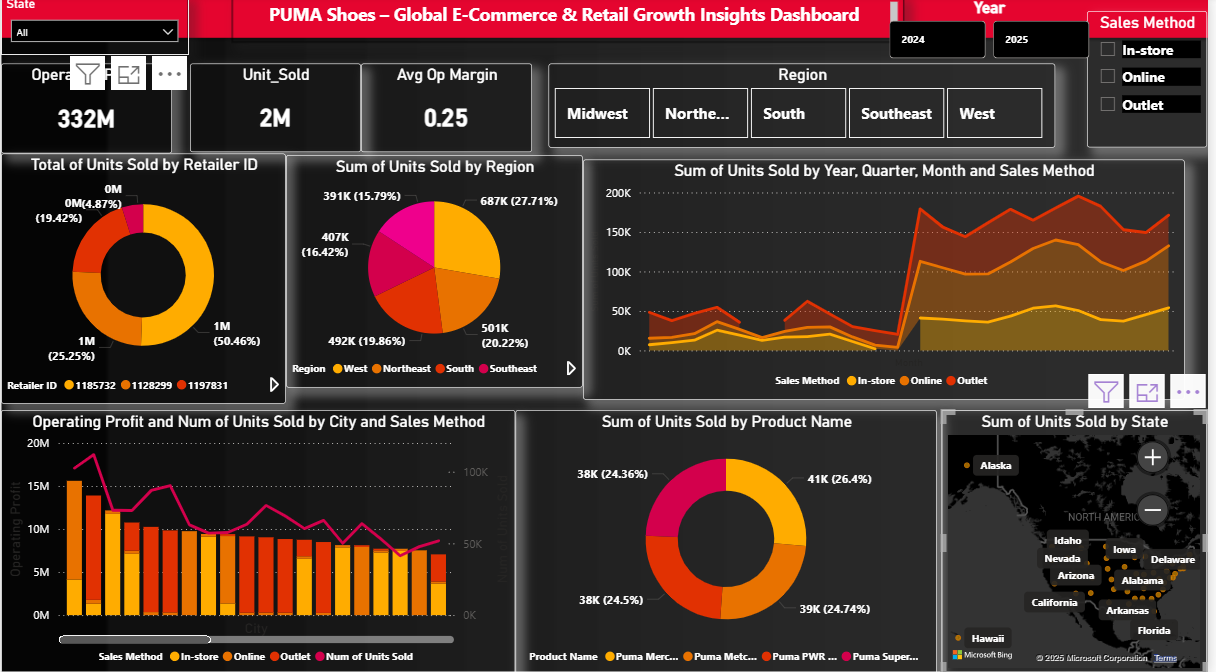

The dashboard page shown, as its layout file describes it:
{"tool":"powerbi","page":{"name":"Page 1","canvas":[1280,720],"ordinal":0},"visuals":[{"type":"textbox","box":[245,0,712.6,49.3],"z":0},{"type":"card","title":"Operating Profit","fields":{"Values":["Sum(data sales puma.Operating Profit)"]},"box":[0,71.6,181.3,95.4],"z":1000},{"type":"card","title":"Avg Op Margin","fields":{"Values":["Avg(data sales puma.Operating Margin)"]},"box":[381.7,71.6,181.3,93.8],"z":2000},{"type":"card","title":"Unit_Sold","fields":{"Values":["Sum(data sales puma.Units Sold)"]},"box":[200.4,71.6,181.3,93.8],"z":3000},{"type":"stackedAreaChart","fields":{"Category":["data sales puma.Invoice Date.Variation.Date Hierarchy.Year","data sales puma.Invoice Date.Variation.Date Hierarchy.Quarter","data sales puma.Invoice Date.Variation.Date Hierarchy.Month","data sales puma.Invoice Date.Variation.Date Hierarchy.Day"],"Y":["Sum(data sales puma.Units Sold)"],"Series":["data sales puma.Sales Method"]},"box":[617.2,173.4,637.8,254.5],"z":4000},{"type":"lineStackedColumnComboChart","fields":{"Category":["data sales puma.City"],"Y":["Sum(data sales puma.Operating Profit)"],"Y2":["Sum(data sales puma.Units Sold)"],"Series":["data sales puma.Sales Method"]},"box":[0,439,545.6,281.5],"z":5000},{"type":"donutChart","fields":{"Y":["Sum(data sales puma.Units Sold)"],"Category":["data sales puma.Retailer ID"]},"box":[0,167,302.2,265.6],"z":6000},{"type":"pieChart","fields":{"Y":["Sum(data sales puma.Units Sold)"],"Category":["data sales puma.Region"]},"box":[302.2,168.6,314.9,246.5],"z":8000},{"type":"advancedSlicerVisual","fields":{"Values":["data sales puma.Region"]},"box":[580.6,71.6,537.6,89.1],"z":9000},{"type":"donutChart","fields":{"Category":["data sales puma.Product Name"],"Y":["Sum(data sales puma.Units Sold)"]},"box":[545.6,439,447,281.5],"z":10000},{"type":"map","fields":{"Category":["data sales puma.State"]},"box":[997.8,438.4,281.6,281.6],"z":11000},{"type":"slicer","title":"Sales Method","fields":{"Values":["data sales puma.Sales Method"]},"box":[1151.6,15.9,127.2,144.7],"z":12000},{"type":"slicer","title":"State","fields":{"Values":["data sales puma.State"]},"box":[0,0,198.8,62],"z":13000},{"type":"advancedSlicerVisual","fields":{"Values":["data sales puma.Invoice Date.Variation.Date Hierarchy.Year"]},"box":[928.9,0,222.7,70],"z":14000}]}

Visuals, with their boxes in screenshot pixels (x1, y1, x2, y2), scaled from the page's 1280x720 canvas onto the 1216x672 screenshot:
textbox: bbox(233, 0, 910, 46)
"Operating Profit" card: bbox(0, 67, 172, 156)
"Avg Op Margin" card: bbox(363, 67, 535, 154)
"Unit_Sold" card: bbox(190, 67, 363, 154)
stackedAreaChart - data sales puma.Invoice Date.Variation.Date Hierarchy.Year x data sales puma.Invoice Date.Variation.Date Hierarchy.Quarter: bbox(586, 162, 1192, 399)
lineStackedColumnComboChart - data sales puma.City x Sum(data sales puma.Operating Profit): bbox(0, 410, 518, 671)
donutChart - Sum(data sales puma.Units Sold) x data sales puma.Retailer ID: bbox(0, 156, 287, 404)
pieChart - Sum(data sales puma.Units Sold) x data sales puma.Region: bbox(287, 157, 586, 387)
advancedSlicerVisual - data sales puma.Region: bbox(552, 67, 1062, 150)
donutChart - data sales puma.Product Name x Sum(data sales puma.Units Sold): bbox(518, 410, 943, 671)
map - data sales puma.State: bbox(948, 409, 1215, 671)
"Sales Method" slicer: bbox(1094, 15, 1215, 150)
"State" slicer: bbox(0, 0, 189, 58)
advancedSlicerVisual - data sales puma.Invoice Date.Variation.Date Hierarchy.Year: bbox(882, 0, 1094, 65)
